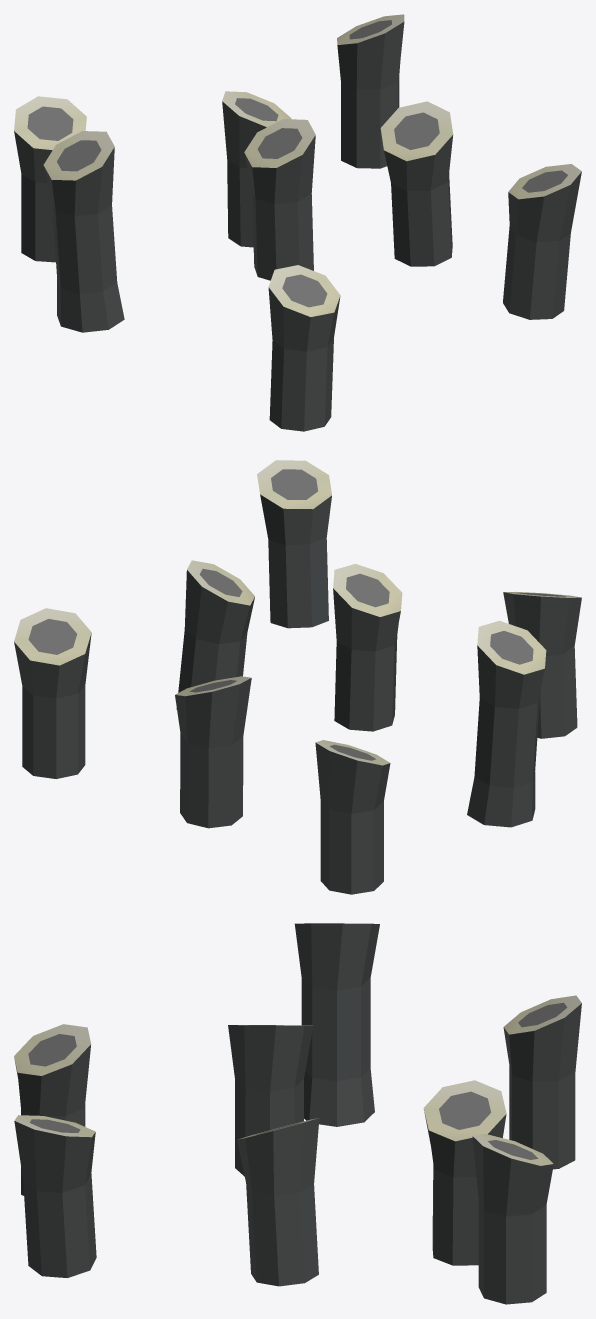
Rendered from Bamboo_1_Destructed.fbx.
The picture shows the model from 3 angles, top to bottom: view 1: azimuth 30°, elevation 25°; view 2: azimuth 150°, elevation 25°; view 3: azimuth 270°, elevation 25°; orthographic projection. The views are drawn at different scales.
Parts seen in each view (by area): view 1: Bamboo_1_Destructed; view 2: Bamboo_1_Destructed; view 3: Bamboo_1_Destructed.
Part boxes in pixels (left/top/right/bottom): Bamboo_1_Destructed: left=14, top=14, right=581, bottom=431; Bamboo_1_Destructed: left=14, top=460, right=581, bottom=894; Bamboo_1_Destructed: left=14, top=923, right=581, bottom=1304.
Bounding box in the file's own units: 0.7218 × 0.3304 × 0.7357.
